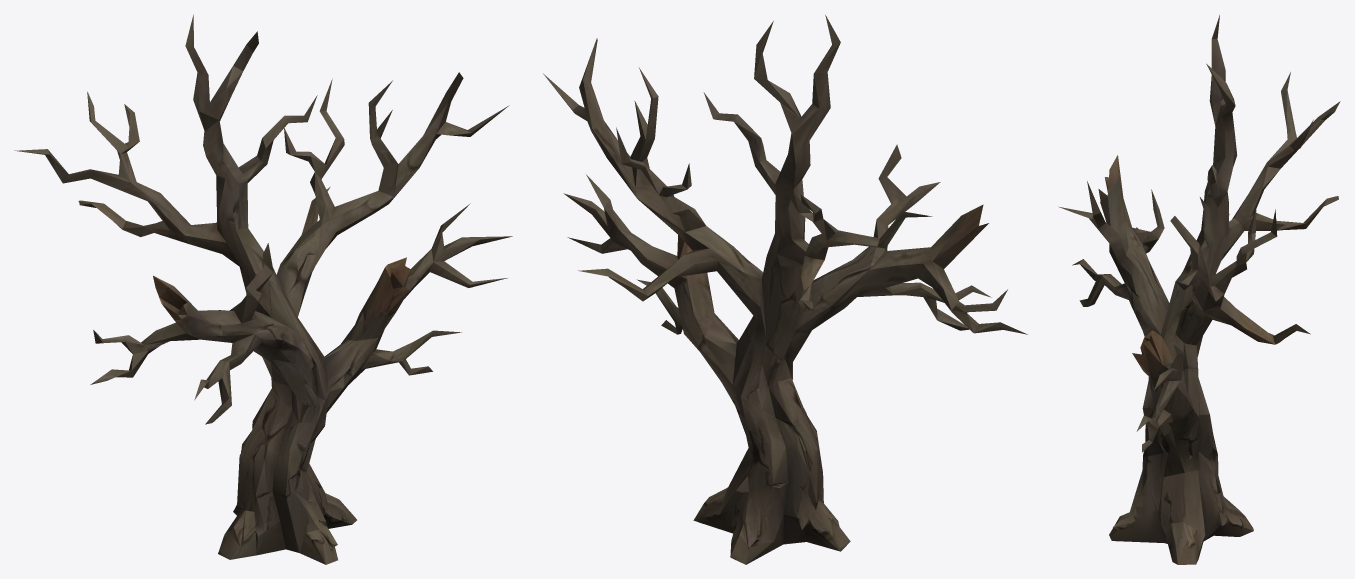
The model's file is bg_swamp_dead_2_lod0.glb.
3 renders of one model, left to right at view 1: azimuth 30°, elevation 25°; view 2: azimuth 150°, elevation 25°; view 3: azimuth 270°, elevation 25°, orthographic. The views are drawn at different scales.
Parts seen in each view (by area): view 1: body; view 2: body; view 3: body.
Boxes of the visible parts, x1,y1,x2,y2 form: body: (14, 14, 512, 564); body: (543, 15, 1027, 564); body: (1058, 15, 1340, 564).
Bounding box in the file's own units: 4.4 × 5.01 × 2.63.
Materials: 1 (1 with a texture image).
